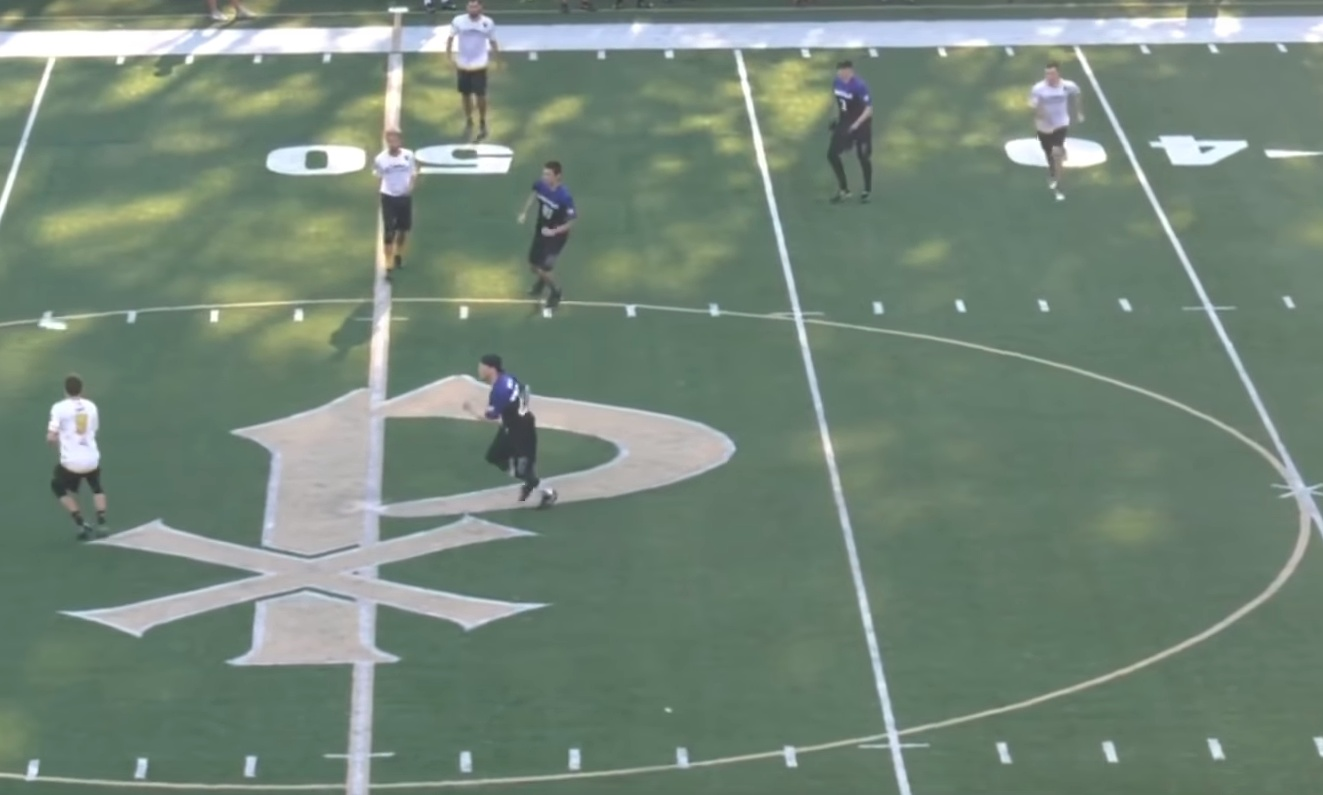frisbee: (39, 320, 67, 331)
